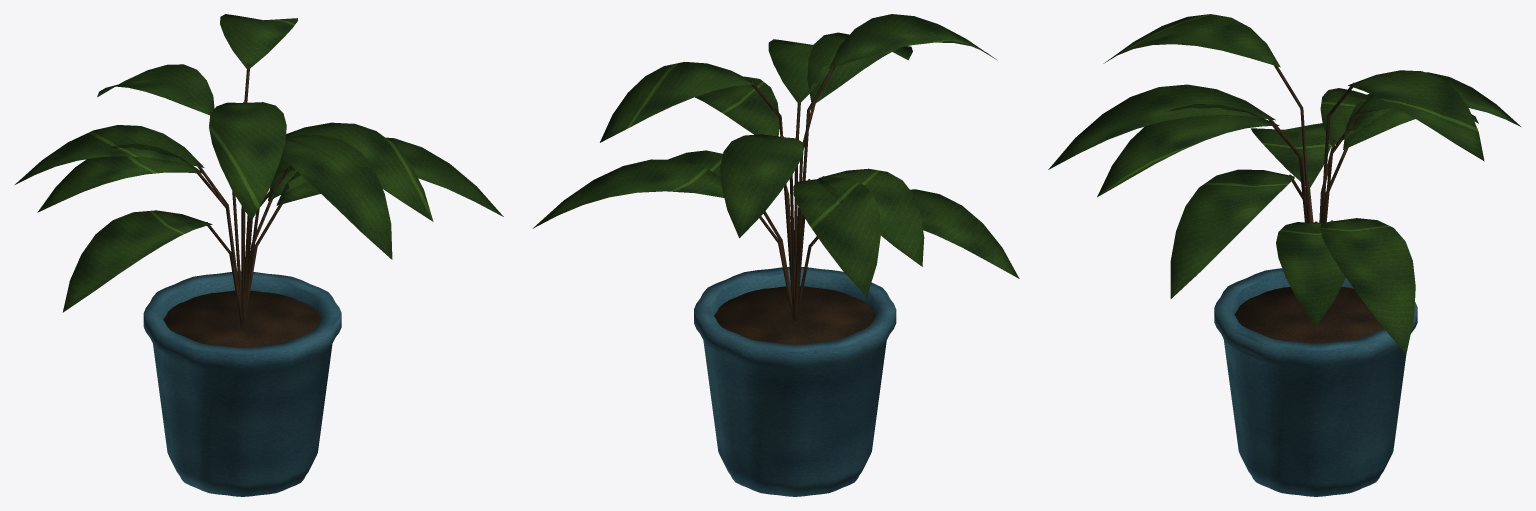
Rendered from PalmPlanter.fbx.
3 renders of one model, left to right at view 1: azimuth 30°, elevation 25°; view 2: azimuth 150°, elevation 25°; view 3: azimuth 270°, elevation 25°, orthographic. The views are drawn at different scales.
Visible parts, largest first — view 1: PalmPlanter_Leaf, PalmPlanter_BlueGlaze, PalmPlanter_Soil, PalmPlanter_Bark; view 2: PalmPlanter_Leaf, PalmPlanter_BlueGlaze, PalmPlanter_Soil, PalmPlanter_Bark; view 3: PalmPlanter_Leaf, PalmPlanter_BlueGlaze, PalmPlanter_Soil, PalmPlanter_Bark.
Boxes of the visible parts, x1=… form: PalmPlanter_Leaf: x1=15, y1=14, x2=503, y2=312; PalmPlanter_BlueGlaze: x1=143, y1=271, x2=341, y2=496; PalmPlanter_Soil: x1=163, y1=290, x2=321, y2=347; PalmPlanter_Bark: x1=195, y1=63, x2=289, y2=323; PalmPlanter_Leaf: x1=532, y1=14, x2=1019, y2=296; PalmPlanter_BlueGlaze: x1=694, y1=266, x2=896, y2=496; PalmPlanter_Soil: x1=714, y1=286, x2=875, y2=344; PalmPlanter_Bark: x1=750, y1=63, x2=836, y2=320; PalmPlanter_Leaf: x1=1048, y1=14, x2=1520, y2=353; PalmPlanter_BlueGlaze: x1=1214, y1=268, x2=1417, y2=496; PalmPlanter_Soil: x1=1234, y1=287, x2=1383, y2=343; PalmPlanter_Bark: x1=1267, y1=61, x2=1362, y2=223.
Bounding box in the file's own units: 122 × 114 × 118.
